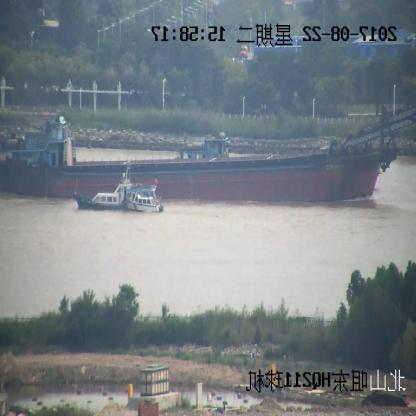Bulk Carrier: (0, 109, 416, 204)
